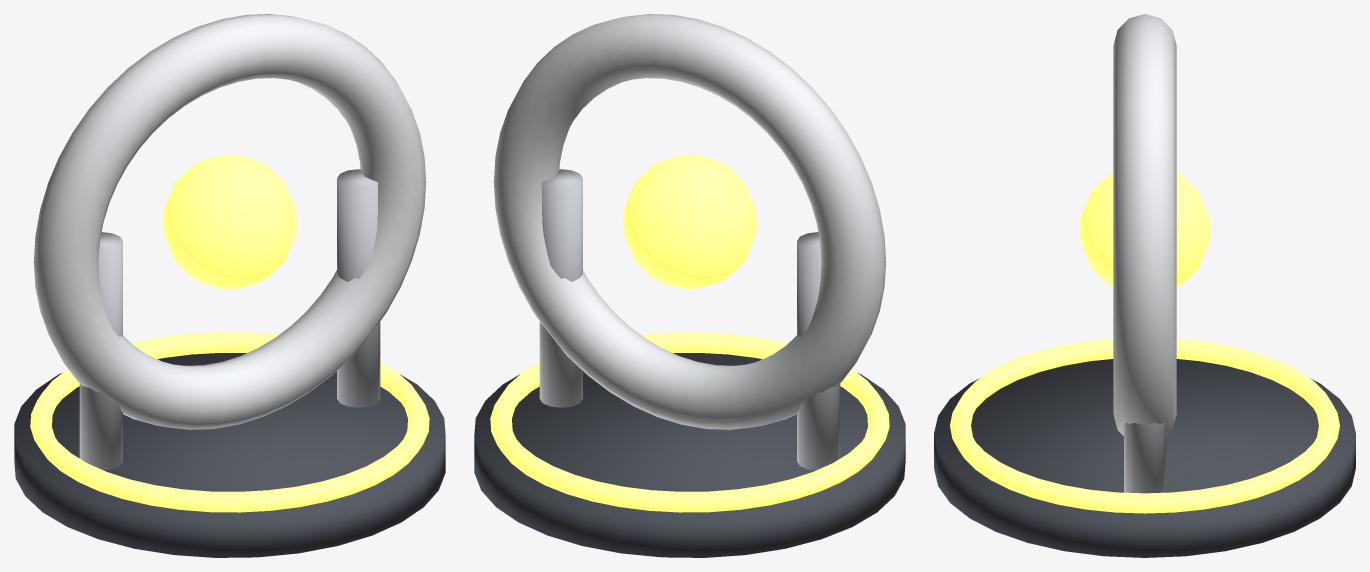
Rendered from reactor_core_fusion_ring.glb.
3 views of the same model, side by side, from view 1: azimuth 30°, elevation 25°; view 2: azimuth 150°, elevation 25°; view 3: azimuth 270°, elevation 25° (orthographic). The views are drawn at different scales.
Parts seen in each view (by area): view 1: GD_reactor_core_fusion_ring__m2, GD_reactor_core_fusion_ring__m0, GD_reactor_core_fusion_ring__m1, GD_reactor_core_fusion_ring__m3; view 2: GD_reactor_core_fusion_ring__m2, GD_reactor_core_fusion_ring__m0, GD_reactor_core_fusion_ring__m1, GD_reactor_core_fusion_ring__m3; view 3: GD_reactor_core_fusion_ring__m0, GD_reactor_core_fusion_ring__m2, GD_reactor_core_fusion_ring__m1, GD_reactor_core_fusion_ring__m3.
Part boxes in pixels (<box>): GD_reactor_core_fusion_ring__m2: <box>33,14,426,429</box>; GD_reactor_core_fusion_ring__m0: <box>14,353,445,557</box>; GD_reactor_core_fusion_ring__m1: <box>30,154,429,512</box>; GD_reactor_core_fusion_ring__m3: <box>79,169,380,470</box>; GD_reactor_core_fusion_ring__m2: <box>493,14,886,429</box>; GD_reactor_core_fusion_ring__m0: <box>474,353,905,557</box>; GD_reactor_core_fusion_ring__m1: <box>490,154,889,512</box>; GD_reactor_core_fusion_ring__m3: <box>539,169,840,470</box>; GD_reactor_core_fusion_ring__m0: <box>934,359,1355,557</box>; GD_reactor_core_fusion_ring__m2: <box>1113,14,1176,435</box>; GD_reactor_core_fusion_ring__m1: <box>950,172,1339,513</box>; GD_reactor_core_fusion_ring__m3: <box>1124,422,1165,493</box>.
Bounding box in the file's own units: 1.64 × 1.82 × 1.6.
